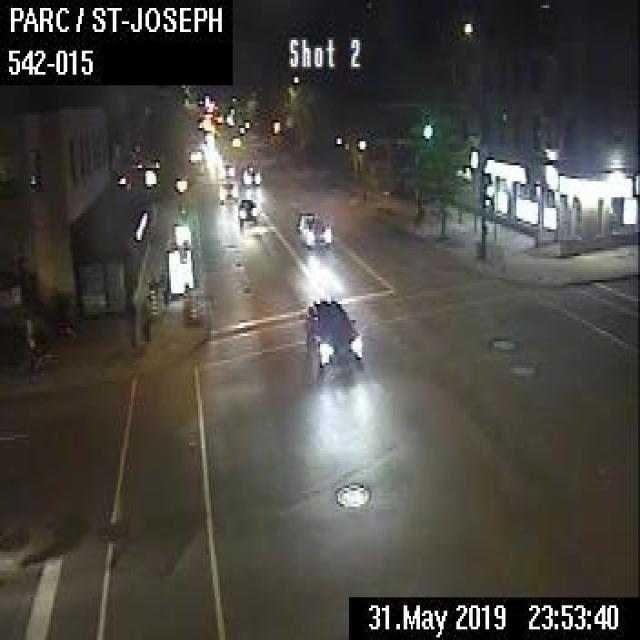construction: (148, 287, 157, 314), (188, 290, 195, 323), (182, 288, 187, 312)
vehicle: (302, 296, 364, 376), (296, 211, 330, 248), (236, 196, 256, 224), (217, 178, 237, 203), (241, 162, 261, 185), (220, 160, 234, 178)
